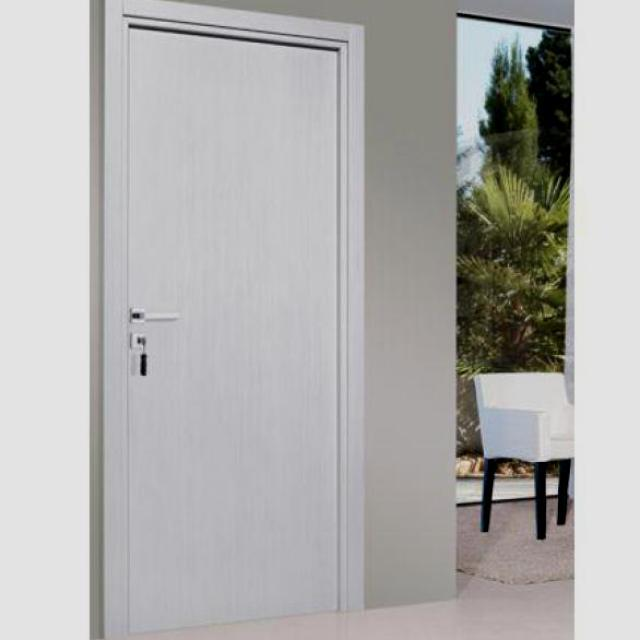Door: (103, 2, 354, 637)
